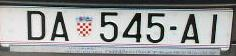-: (169, 24, 179, 32)
4: (122, 12, 141, 44)
5: (146, 13, 166, 44), (100, 11, 118, 43)
A: (51, 11, 70, 42), (181, 14, 200, 44)
D: (26, 10, 45, 42)
I: (210, 14, 217, 45)
